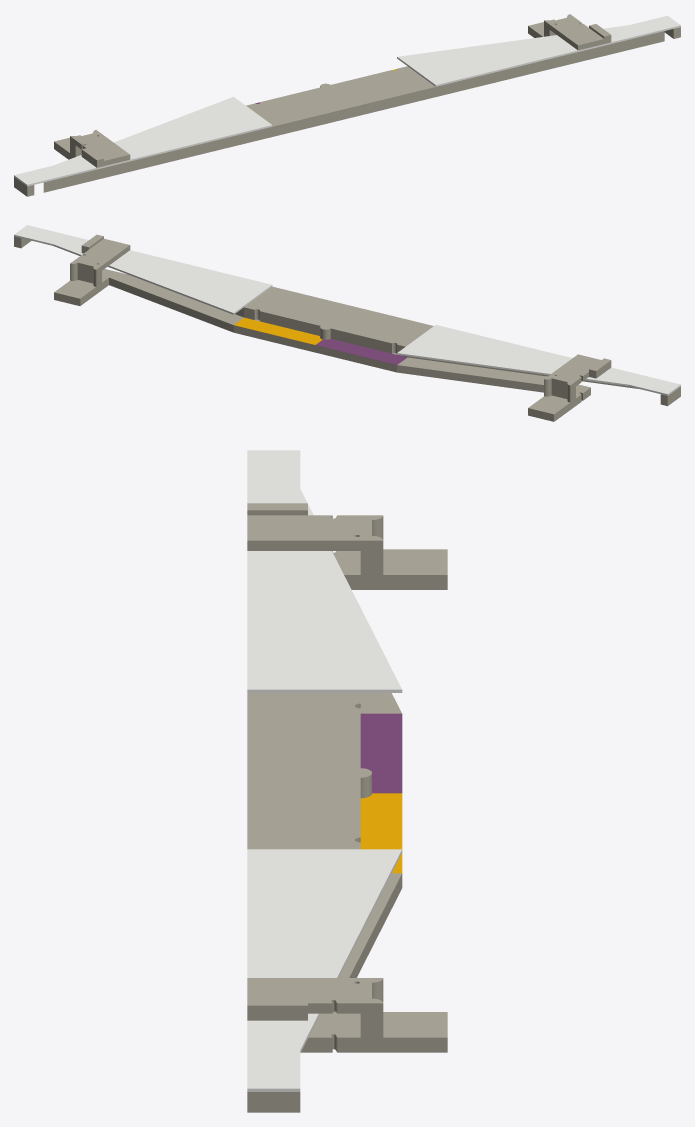
File: accelerator.dae
3 views of the same model, one above another, from view 1: azimuth 30°, elevation 25°; view 2: azimuth 150°, elevation 25°; view 3: azimuth 270°, elevation 25° (orthographic). The views are drawn at different scales.
Visible parts, largest first — view 1: 5cb99084505c701592c00ad9 (×6); view 2: 5cb99084505c701592c00ad9 (×12); view 3: 5cb99084505c701592c00ad9 (×13).
Boxes of the visible parts, box(x1,y1,x2,y2) form: 5cb99084505c701592c00ad9 (×6): box(14, 15, 680, 192); 5cb99084505c701592c00ad9 (×12): box(14, 225, 680, 421); 5cb99084505c701592c00ad9 (×13): box(247, 450, 447, 1112).
Bounding box in the file's own units: 2 × 0.265 × 0.079.
